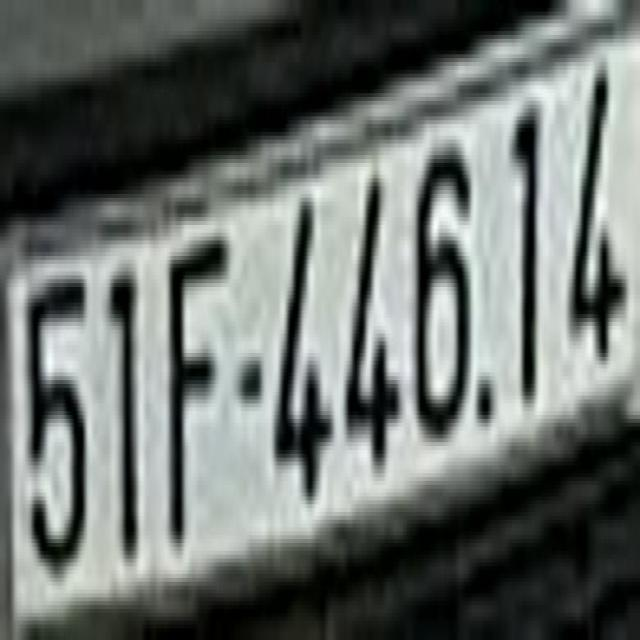1: (506, 93, 544, 415), (102, 256, 142, 559)
4: (565, 38, 636, 364), (272, 175, 336, 512), (344, 158, 402, 466)
5: (24, 268, 92, 574)
6: (412, 136, 472, 438)
F: (162, 221, 230, 543)
